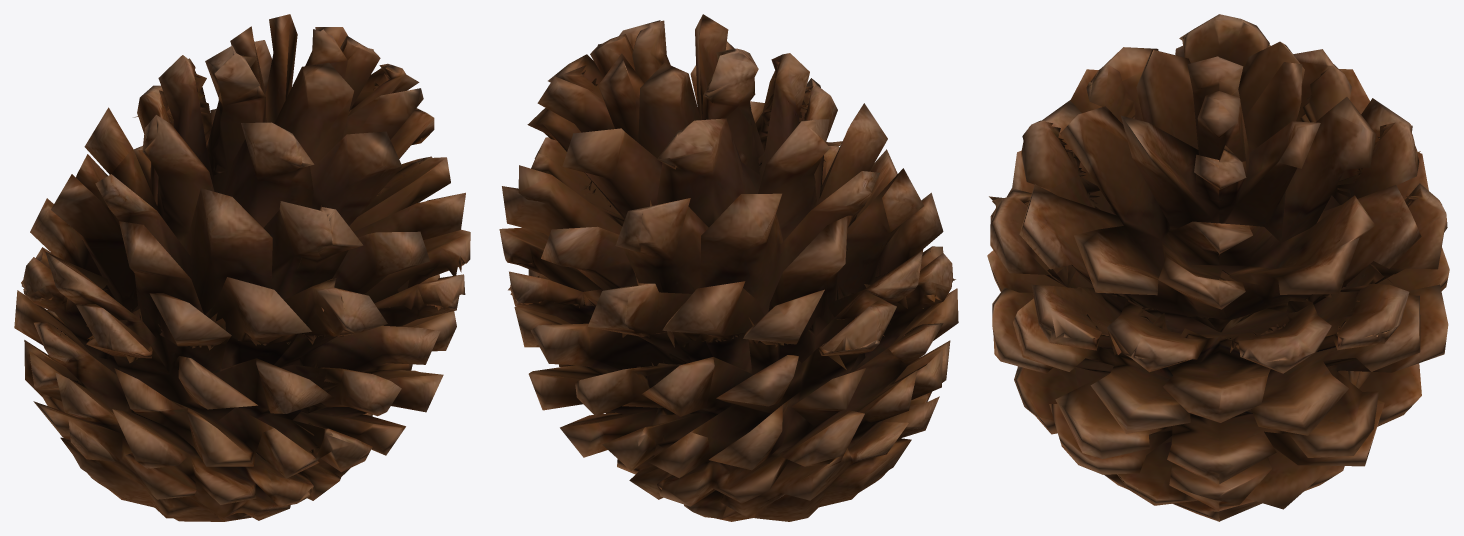
The picture shows the model from 3 angles, left to right: view 1: azimuth 30°, elevation 25°; view 2: azimuth 150°, elevation 25°; view 3: azimuth 270°, elevation 25°; orthographic projection. The views are drawn at different scales.
Parts seen in each view (by area): view 1: Mega pine cone; view 2: Mega pine cone; view 3: Mega pine cone.
Part boxes in pixels (<box>): Mega pine cone: <box>14,14,470,521</box>; Mega pine cone: <box>499,14,958,521</box>; Mega pine cone: <box>987,14,1449,521</box>.
Bounding box in the file's own units: 14 × 15.4 × 13.1.
Materials: 1 (1 with a texture image).
